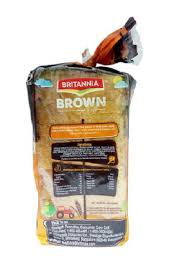bread: (23, 44, 146, 253)
